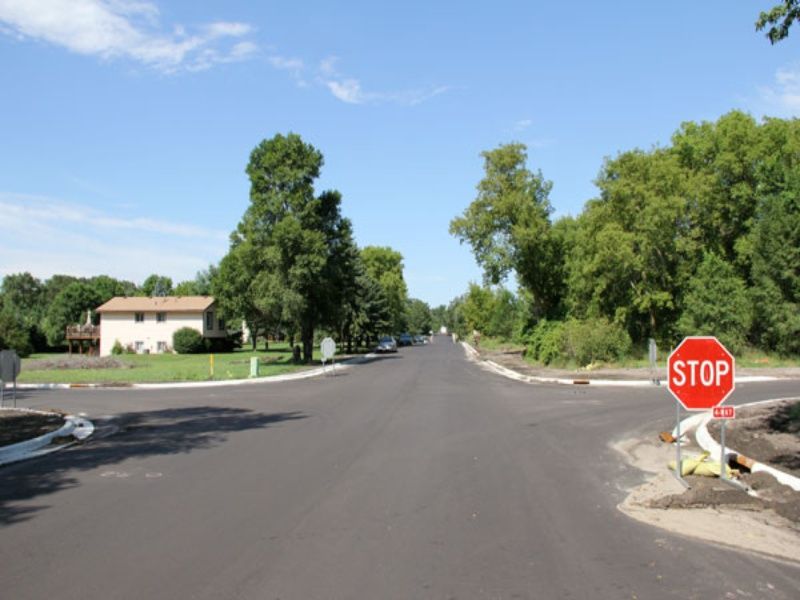stop sign: (663, 333, 740, 411)
